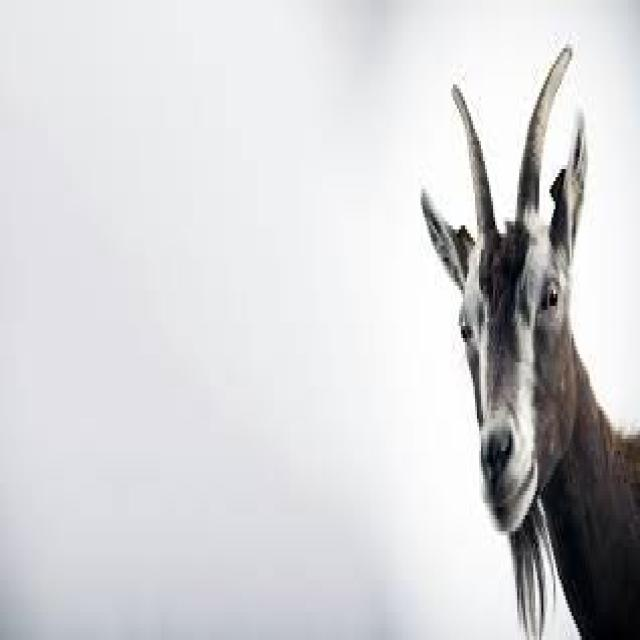Goat: (423, 38, 640, 640)
